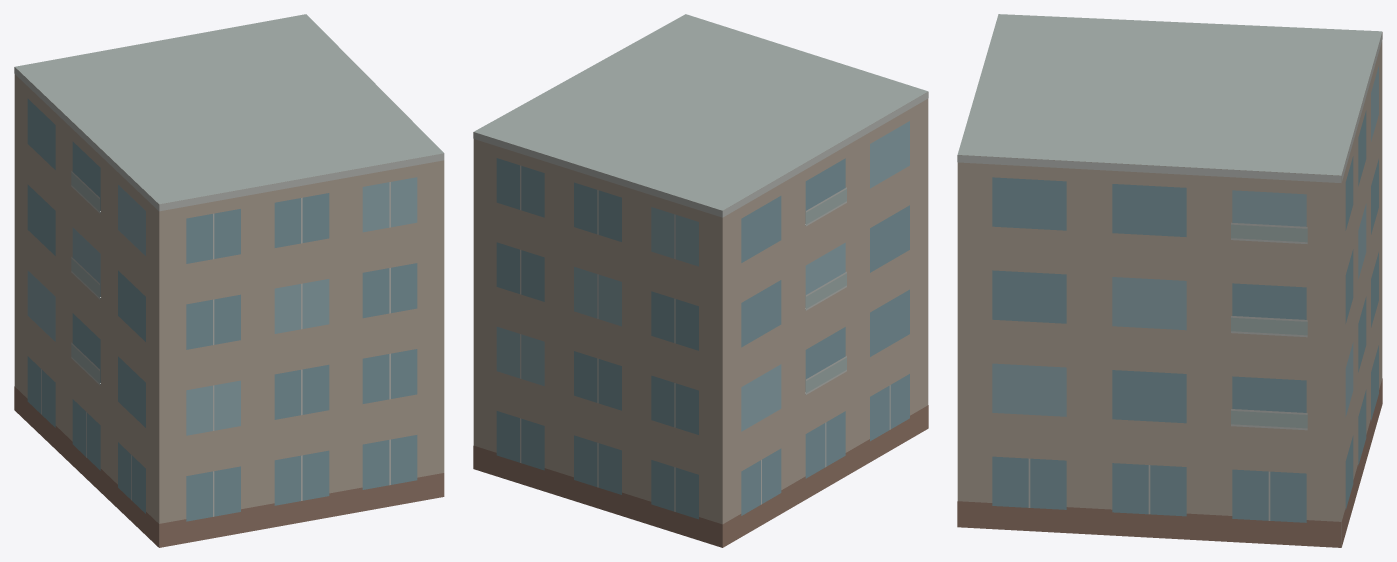
File: survey-upis-32501644.glb
The picture shows the model from 3 angles, left to right: view 1: azimuth 30°, elevation 25°; view 2: azimuth 150°, elevation 25°; view 3: azimuth 270°, elevation 25°; orthographic projection. The views are drawn at different scales.
Visible parts, largest first — view 1: survey-upis-32501644.tmp; view 2: survey-upis-32501644.tmp; view 3: survey-upis-32501644.tmp.
Boxes of the visible parts, <box> form: survey-upis-32501644.tmp: <box>14,14,444,547</box>; survey-upis-32501644.tmp: <box>473,14,928,547</box>; survey-upis-32501644.tmp: <box>957,14,1382,547</box>.
Bounding box in the file's own units: 11.11 × 11.93 × 12.35.
